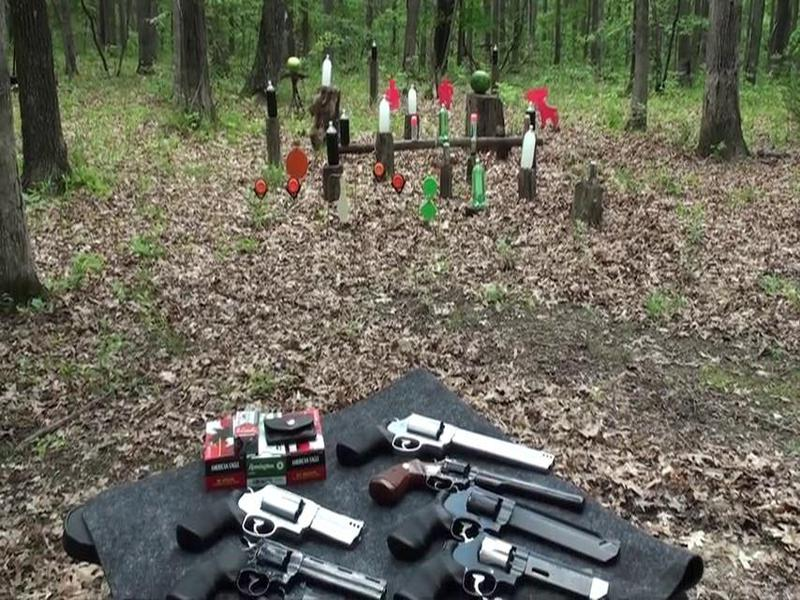Revolver: (383, 476, 622, 575), (340, 384, 570, 484), (173, 471, 375, 568)
